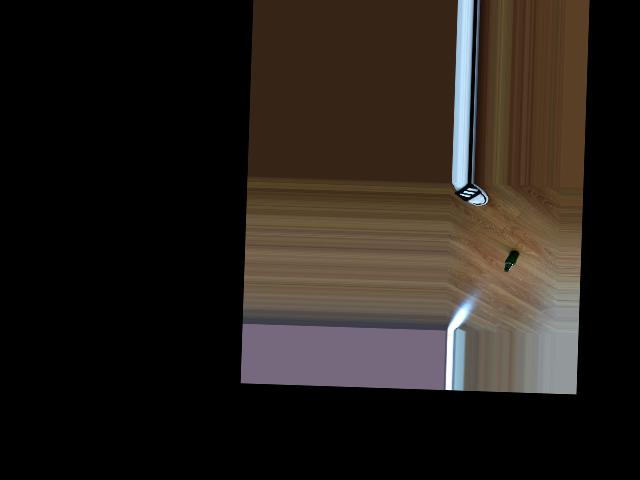beer: (503, 250, 518, 271)
